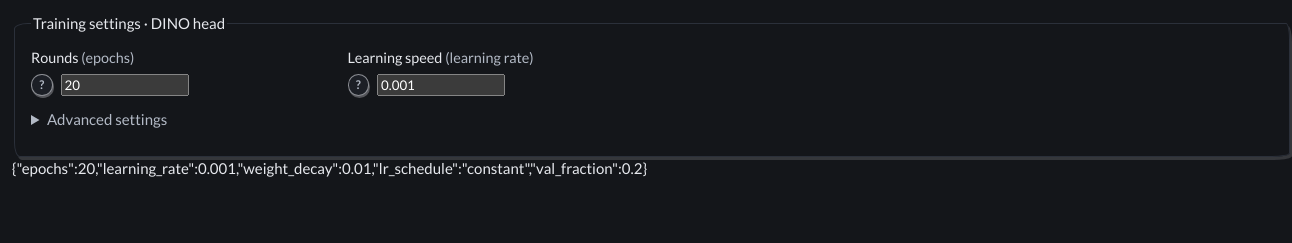
it: ParameterForm (doc 100) › shows what a recipe sets, but does not let it be edited
The image size is (1292, 243).
Click the heading "Advanced settings".
click(107, 119)  # box [47,110,167,128]
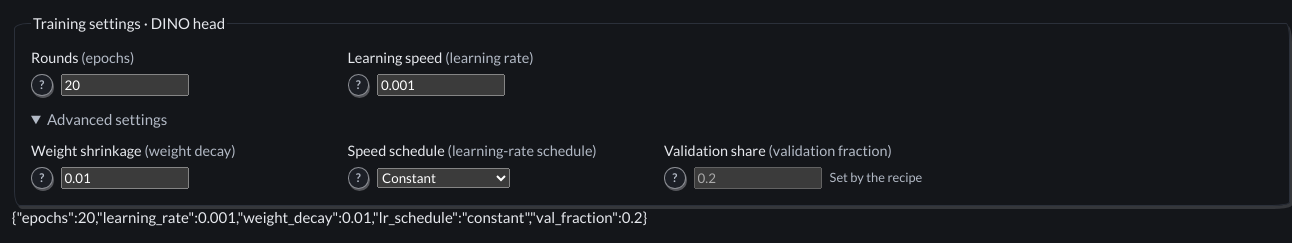
Now the field labelled "Validation share (validation fraction)" is disabled, box [694,167,822,189]
Now the text "Set by the recipe" is shown, box [830,168,922,188]
